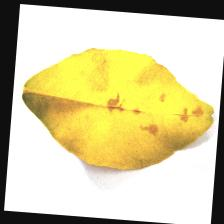black spot: (79, 78, 186, 138)
